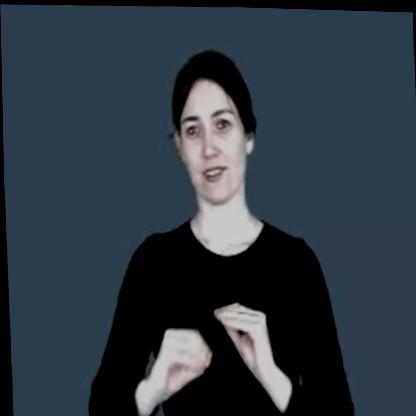Fix: (145, 275, 275, 409)
